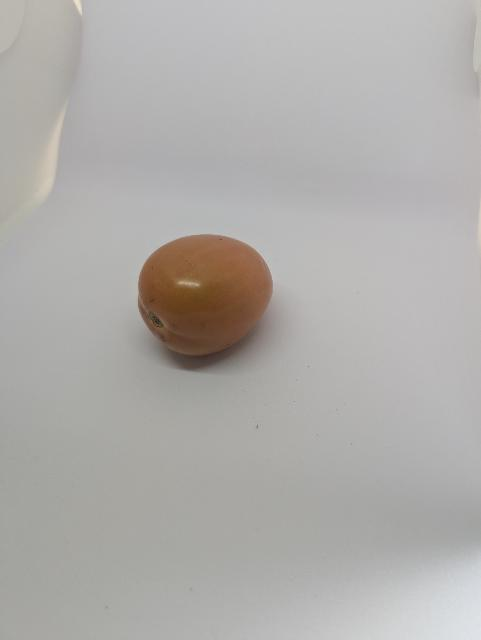turning: (127, 230, 279, 364)
